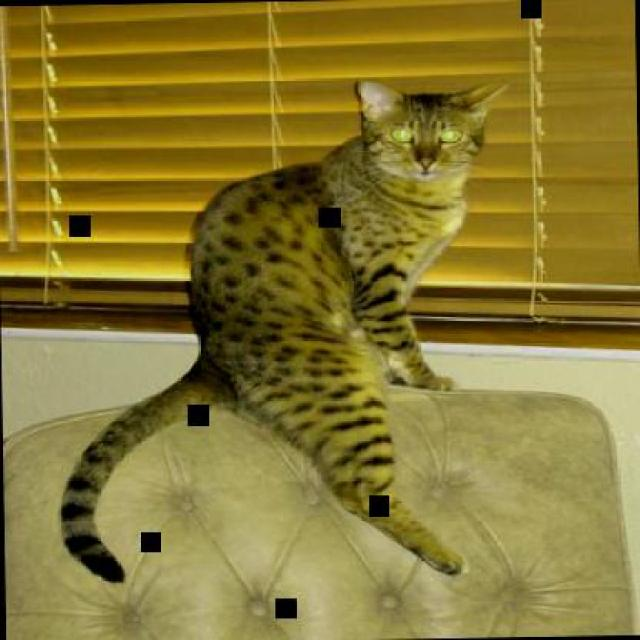cat: (48, 76, 515, 584)
